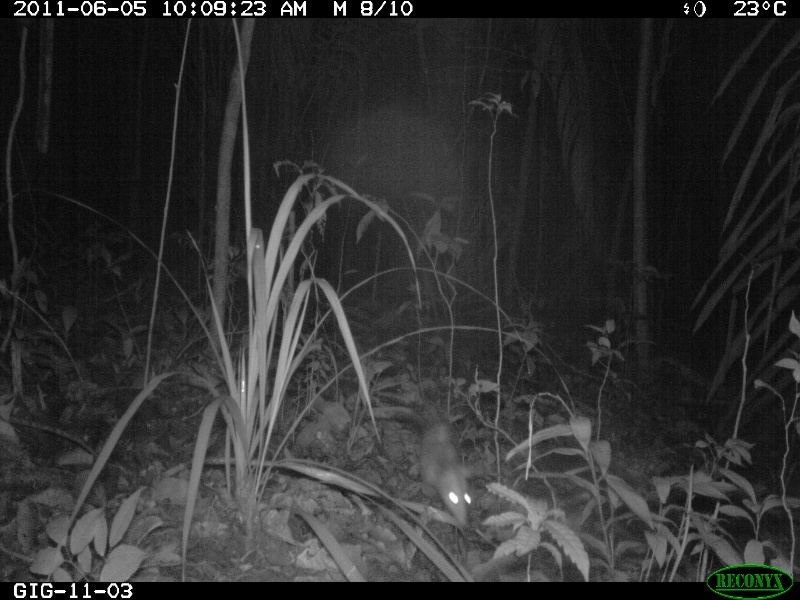opossum: (378, 387, 476, 527)
